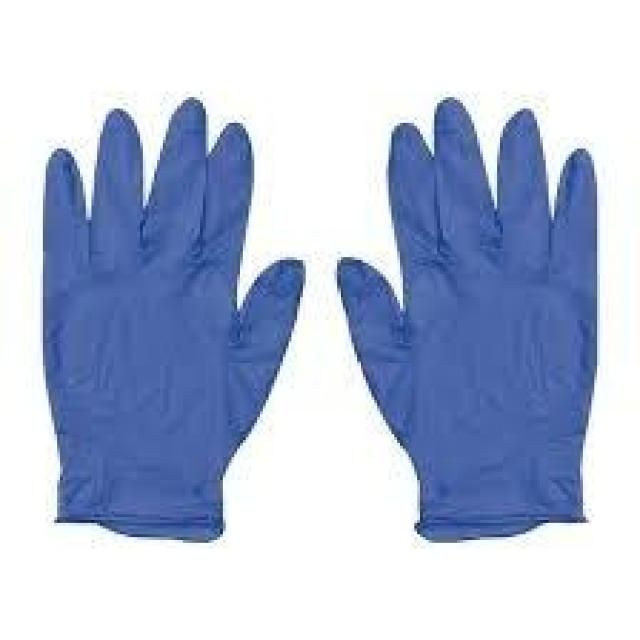Glove: (4, 95, 640, 568)
